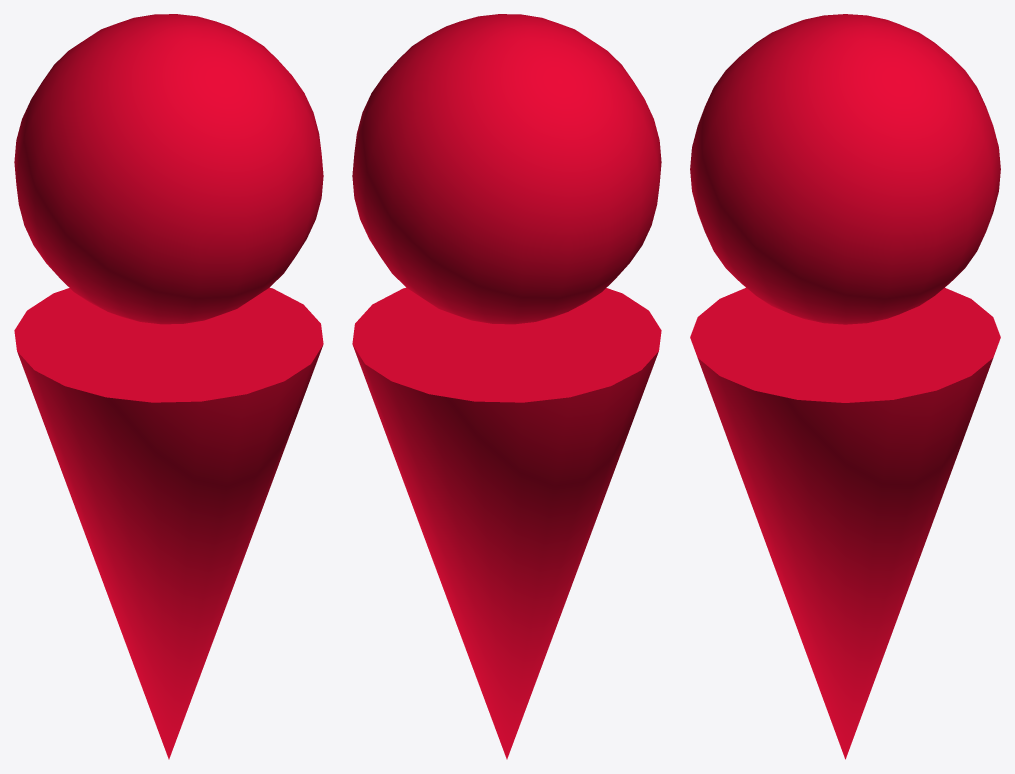
File: player_red.fbx
3 views of the same model, side by side, from view 1: azimuth 30°, elevation 25°; view 2: azimuth 150°, elevation 25°; view 3: azimuth 270°, elevation 25° (orthographic).
Parts seen in each view (by area): view 1: pSphere1, pCone1; view 2: pSphere1, pCone1; view 3: pSphere1, pCone1.
Part boxes in pixels (box(x1,y1,x2,y2)): pSphere1: box(14, 14, 323, 324); pCone1: box(14, 287, 323, 759); pSphere1: box(352, 14, 661, 324); pCone1: box(352, 287, 661, 759); pSphere1: box(690, 14, 1000, 324); pCone1: box(690, 288, 1000, 759).
Size of the model in its own units: 2 by 5.19 by 2.
